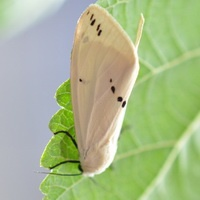insect: (40, 2, 143, 175)
